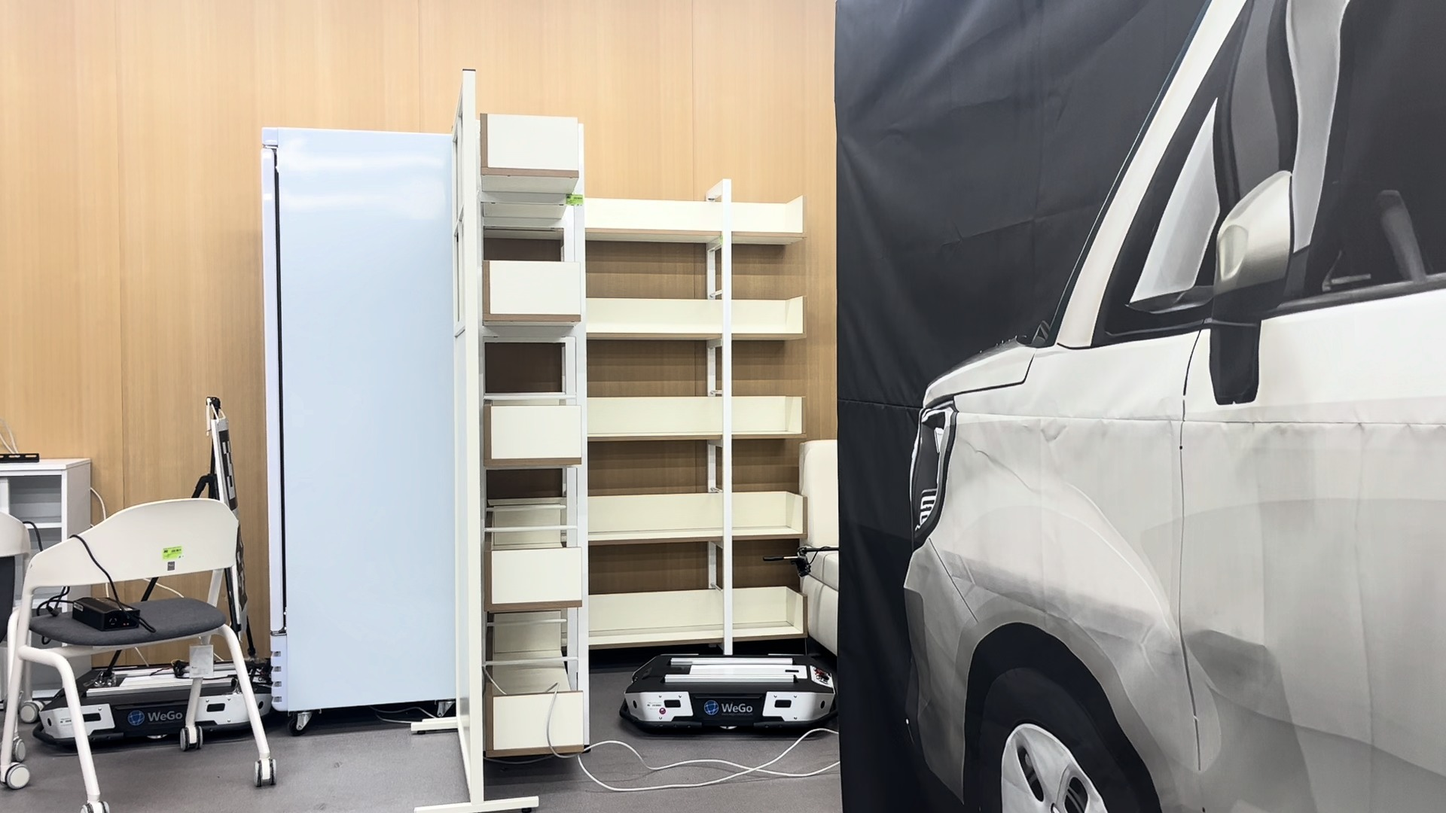side_mirror: (1210, 171, 1292, 404)
